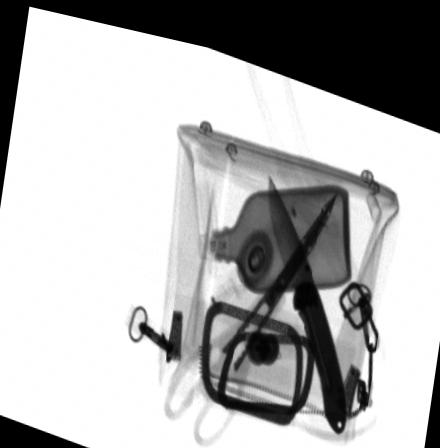Knife: (268, 160, 344, 420)
Scissors: (163, 178, 339, 436)
